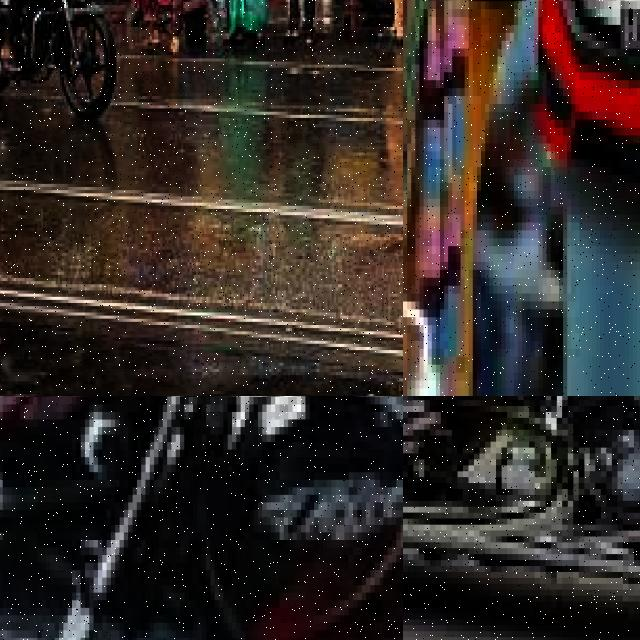bike: (0, 396, 403, 640), (403, 396, 640, 640), (0, 0, 124, 133)
